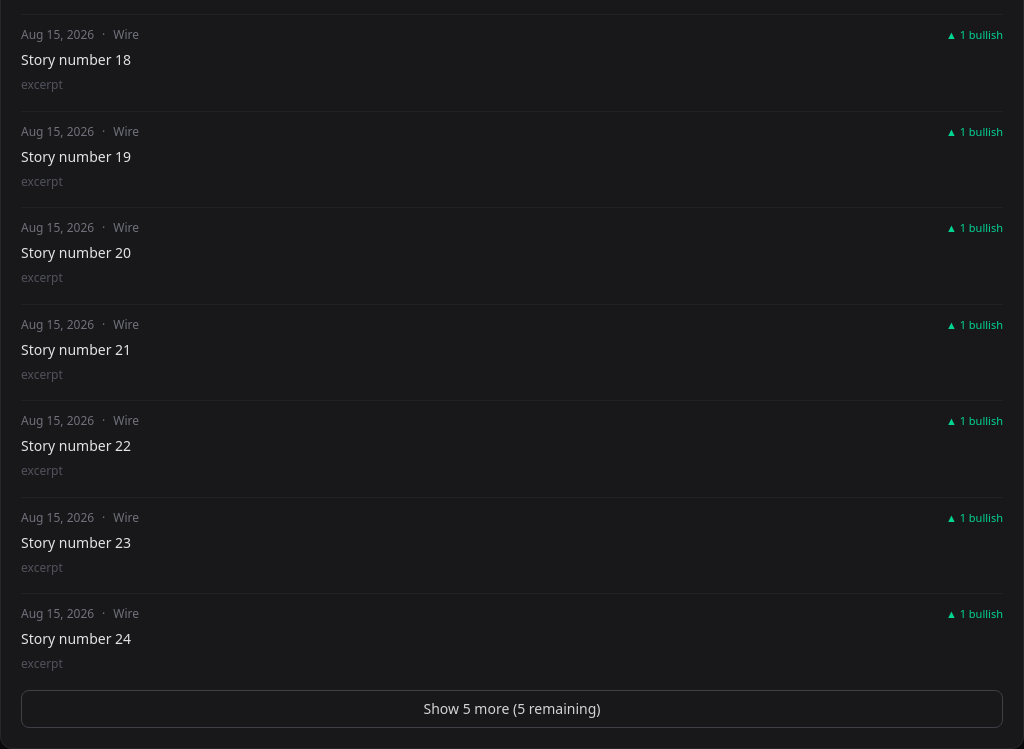
it: the show-more button disappears once everything is visible
(page scrolled)
Click the button "Show 5 more (5 remaining)".
click(512, 708)  # box left=21, top=690, right=1003, bottom=728
(page scrolled)
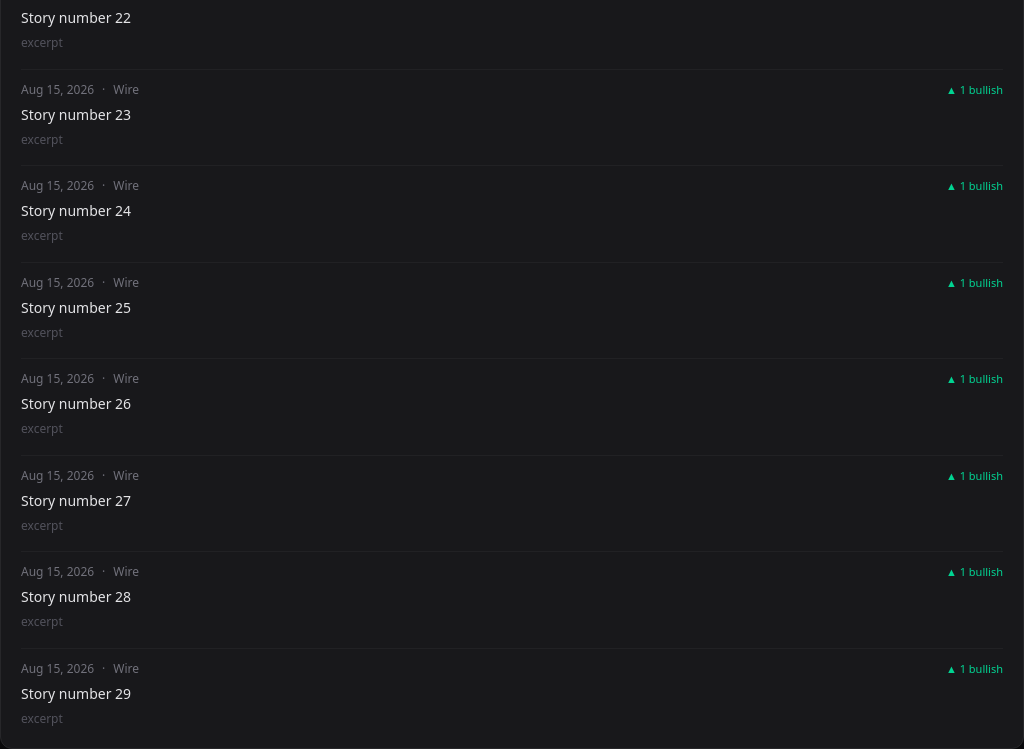
expect the button "Show 5 more (5 remaining)" is gone: met
expect the link "Story number 29" is shown: met, box left=21, top=684, right=131, bottom=702
